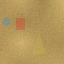person: (2, 17, 9, 26)
structure: (31, 33, 46, 54)
vehicle: (15, 17, 24, 29)
